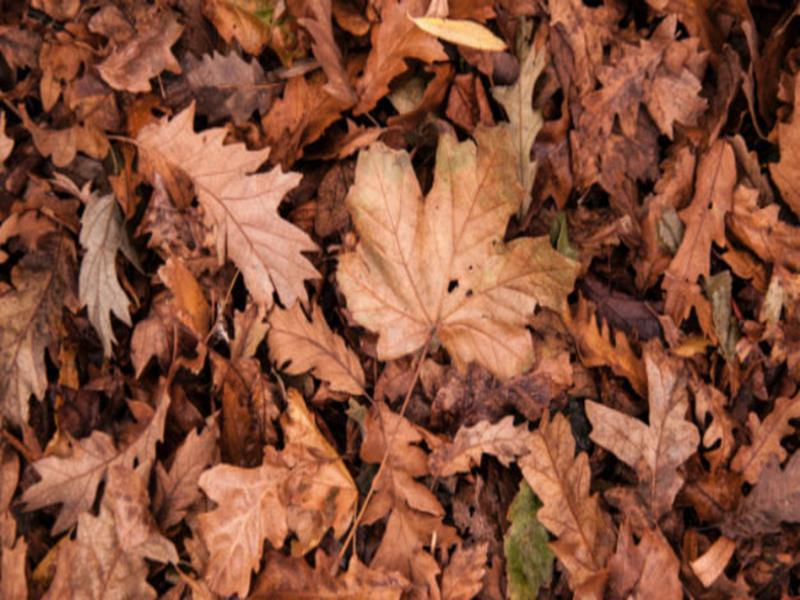leaf: (326, 117, 594, 388), (113, 100, 321, 316), (8, 384, 185, 539), (495, 405, 621, 600), (164, 433, 301, 600), (583, 355, 708, 518), (650, 138, 749, 329), (395, 7, 515, 57)
